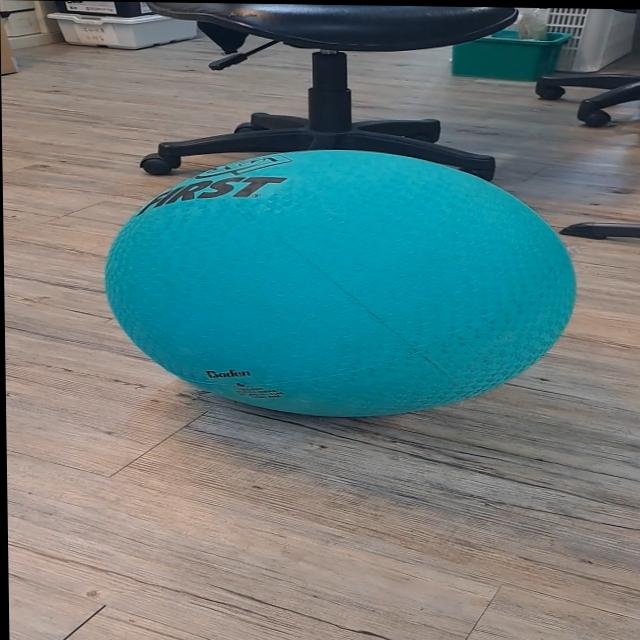ALGAE: (100, 144, 580, 421)
